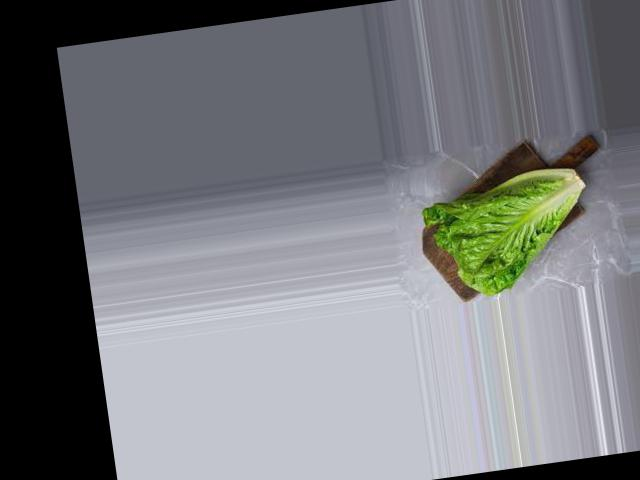lettuce: (426, 146, 596, 299)
